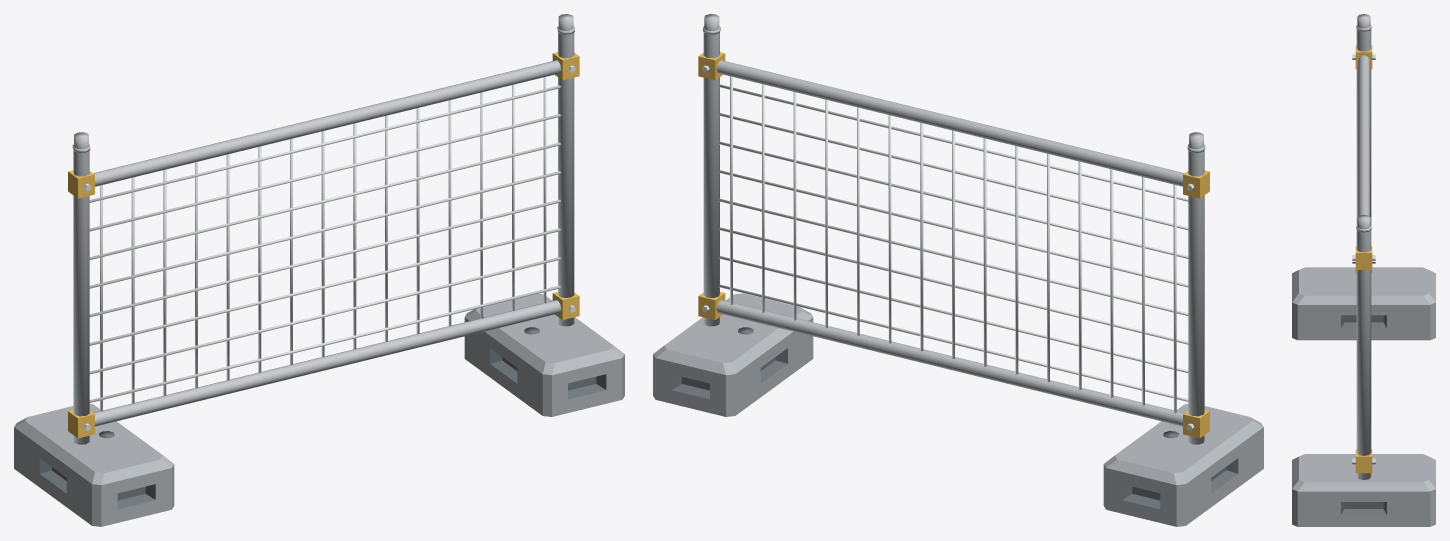
Rendered from temporary fence.fbx.
The picture shows the model from 3 angles, left to right: view 1: azimuth 30°, elevation 25°; view 2: azimuth 150°, elevation 25°; view 3: azimuth 270°, elevation 25°; orthographic projection. The views are drawn at different scales.
Visible parts, largest first — view 1: FencePanel_Left; view 2: FencePanel_Left; view 3: FencePanel_Left.
Boxes of the visible parts, x1=… form: FencePanel_Left: x1=14, y1=14, x2=624, y2=526; FencePanel_Left: x1=653, y1=14, x2=1263, y2=526; FencePanel_Left: x1=1292, y1=14, x2=1435, y2=526.
Bounding box in the file's own units: 181 × 115 × 50.
